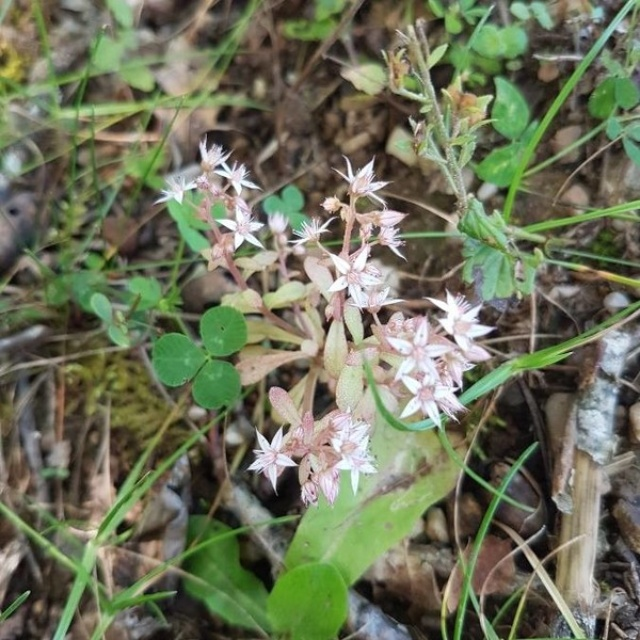obstacle: (123, 133, 479, 483)
